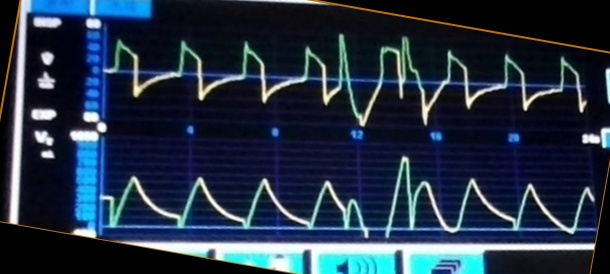Double_Triggering Flow: (115, 33, 540, 126)
Double_Triggering Volume: (103, 153, 550, 238)
